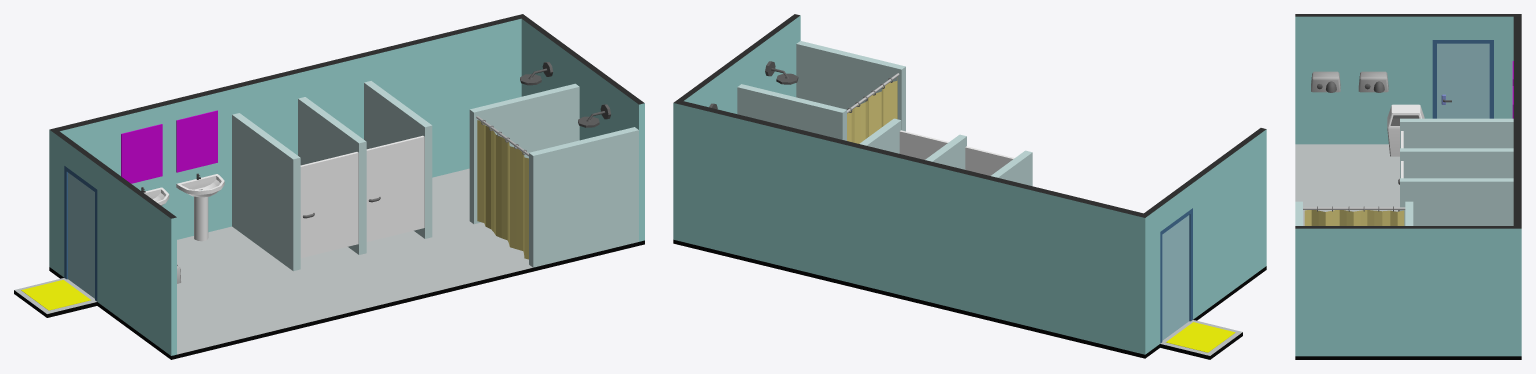
File: Baño.fbx
3 renders of one model, left to right at view 1: azimuth 30°, elevation 25°; view 2: azimuth 150°, elevation 25°; view 3: azimuth 270°, elevation 25°, orthographic. The views are drawn at different scales.
Visible parts, largest first — view 1: Paredes.007, PlataformaMovil.006, ParedDucha1, ParedBaño3, ParedDucha2, PuertaBaño2, PuertaBaño1, Cortina.001, ParedBaño2, ParedBaño1, Puerta1.004, Espejo2 (+4 smaller); view 2: Paredes.007, ParedDucha1, ParedDucha2, PlataformaMovil.006, Puerta1.004, Cortina.001, SalidaCamerino1, PuertaBaño2, PuertaBaño1, MarcoPuerta.006, ParedBaño3, ParedBaño1 (+1 smaller); view 3: Paredes.007, PlataformaMovil.006, ParedBaño1, Puerta1.004, ParedBaño2, ParedBaño3, Cortina.001, MarcoPuerta.006, CuboBasura, SecadorManos2, SecadorManos1, GuiaCortina.001 (+2 smaller).
Boxes of the visible parts, box(x1,y1,x2,y2) form: Paredes.007: box(49, 14, 644, 355); PlataformaMovil.006: box(14, 168, 644, 359); ParedDucha1: box(529, 127, 638, 267); ParedBaño3: box(232, 113, 300, 270); ParedDucha2: box(469, 83, 579, 224); PuertaBaño2: box(366, 135, 424, 241); PuertaBaño1: box(300, 152, 358, 257); Cortina.001: box(477, 120, 528, 259); ParedBaño2: box(298, 97, 366, 254); ParedBaño1: box(364, 81, 432, 238); Puerta1.004: box(68, 172, 94, 298); Espejo2: box(176, 110, 217, 172); Paredes.007: box(673, 14, 1266, 354); ParedDucha1: box(796, 41, 905, 131); ParedDucha2: box(737, 84, 846, 140); PlataformaMovil.006: box(673, 239, 1266, 359); Puerta1.004: box(1162, 215, 1189, 340); Cortina.001: box(847, 77, 897, 143); SalidaCamerino1: box(1166, 322, 1235, 352); PuertaBaño2: box(899, 130, 948, 159); PuertaBaño1: box(965, 146, 1014, 175); MarcoPuerta.006: box(1160, 208, 1192, 343); ParedBaño3: box(991, 150, 1032, 186); ParedBaño1: box(859, 118, 901, 153); Paredes.007: box(1295, 14, 1521, 356); PlataformaMovil.006: box(1295, 144, 1521, 359); ParedBaño1: box(1400, 178, 1513, 225); Puerta1.004: box(1437, 43, 1489, 118); ParedBaño2: box(1400, 148, 1513, 178); ParedBaño3: box(1400, 118, 1513, 148); Cortina.001: box(1304, 210, 1404, 225); MarcoPuerta.006: box(1432, 40, 1493, 118); CuboBasura: box(1387, 104, 1424, 156); SecadorManos2: box(1358, 71, 1388, 92); SecadorManos1: box(1311, 71, 1340, 92); GuiaCortina.001: box(1303, 207, 1405, 209).
Bounding box in the file's own units: 26091 × 6720 × 10516.
